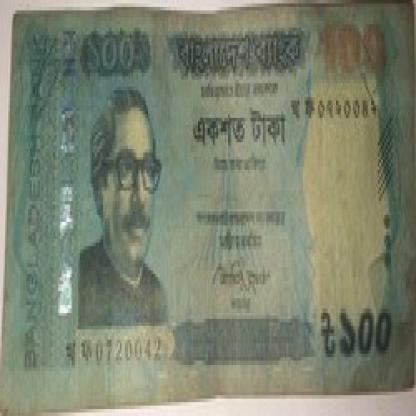one hundred taka: (316, 21, 396, 83), (336, 298, 401, 371), (78, 24, 150, 80)
